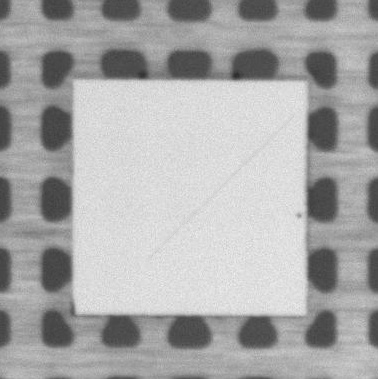DIE_CRACK: (148, 115, 293, 260)
